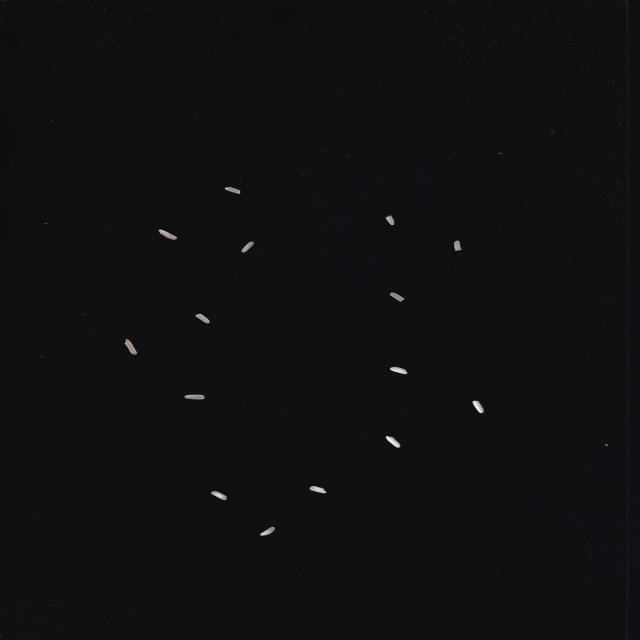Chalky: (211, 491, 227, 500), (260, 527, 275, 536), (310, 486, 326, 493)
Not: (159, 229, 177, 240), (125, 339, 137, 355), (386, 436, 400, 448), (472, 400, 484, 413), (390, 292, 404, 302), (196, 314, 210, 323), (389, 367, 407, 374), (242, 242, 254, 252), (225, 187, 240, 194), (184, 395, 204, 399), (386, 215, 394, 225), (454, 241, 461, 251)
